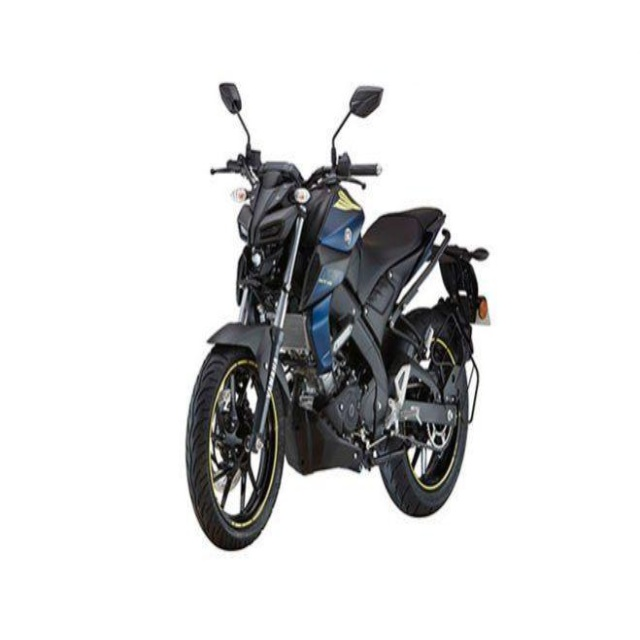Motorcycle: (185, 86, 493, 551)
